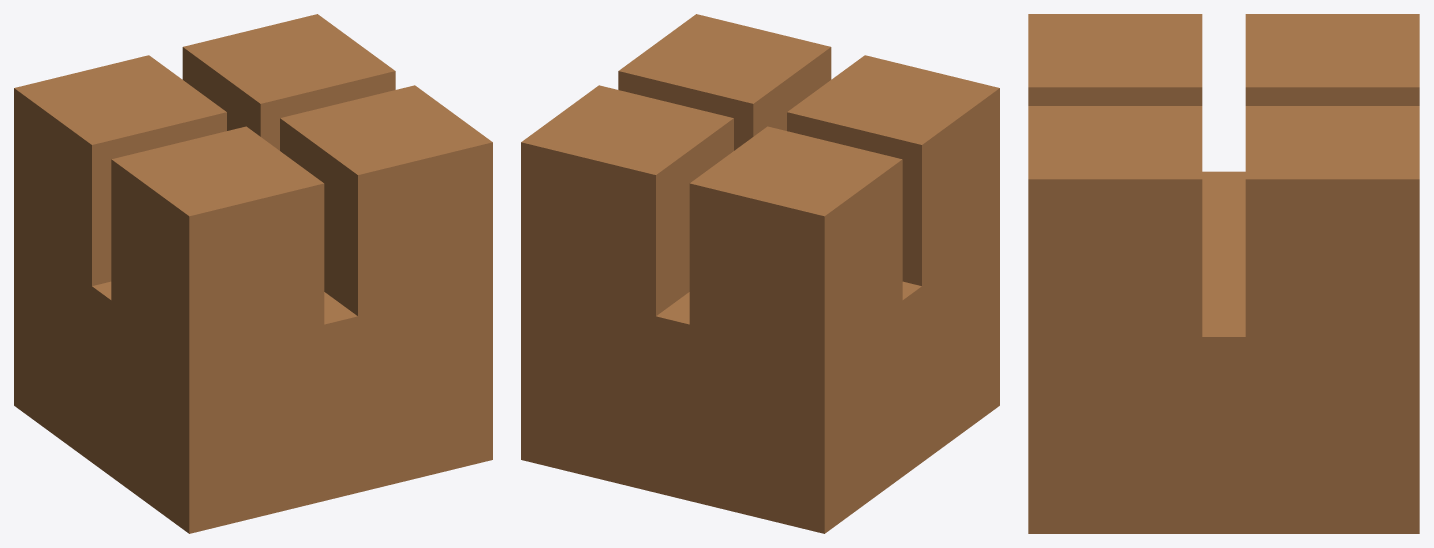
File: Thin_Intersection_Model.fbx
The picture shows the model from 3 angles, left to right: view 1: azimuth 30°, elevation 25°; view 2: azimuth 150°, elevation 25°; view 3: azimuth 270°, elevation 25°; orthographic projection. The views are drawn at different scales.
Visible parts, largest first — view 1: Cube; view 2: Cube; view 3: Cube.
Part boxes in pixels (left/top/right/bottom): Cube: left=14, top=14, right=492, bottom=533; Cube: left=521, top=14, right=999, bottom=533; Cube: left=1028, top=14, right=1419, bottom=533.
Size of the model in its own units: 100 by 100 by 100.
